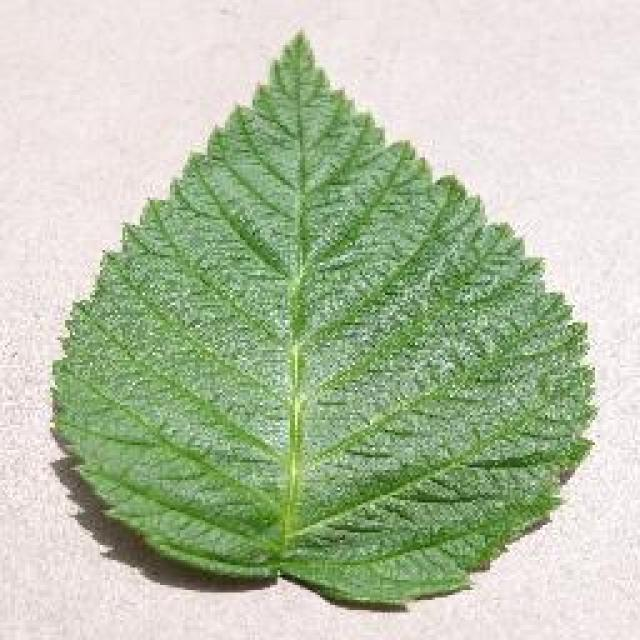Ras_healthy: (57, 94, 544, 562)
